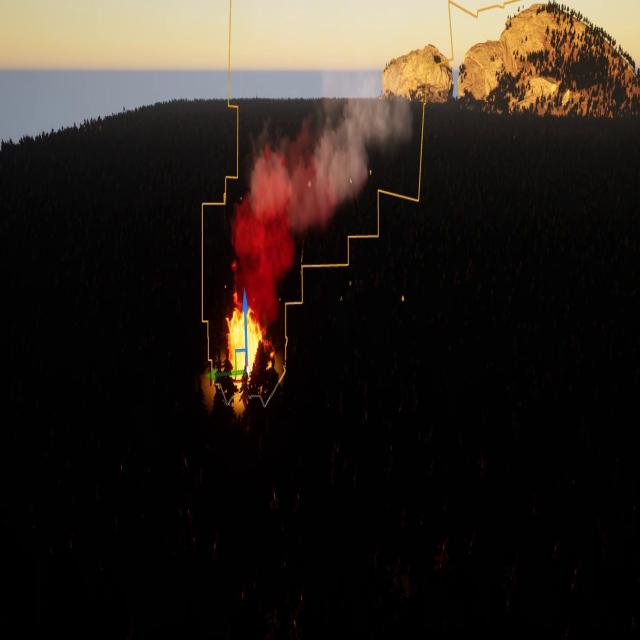fire: (227, 312, 263, 384)
smoke: (234, 72, 420, 313)
